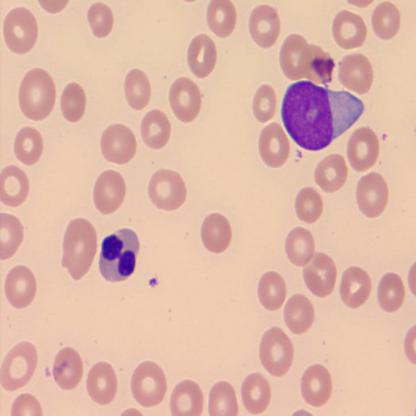NRC: (98, 227, 141, 284)
